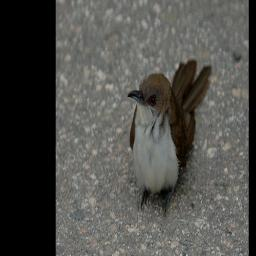Cuckoo: (126, 58, 212, 219)
